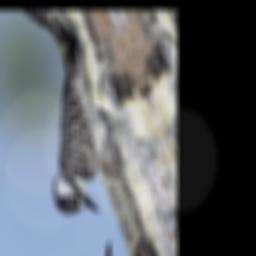Woodpecker: (11, 27, 153, 241)
